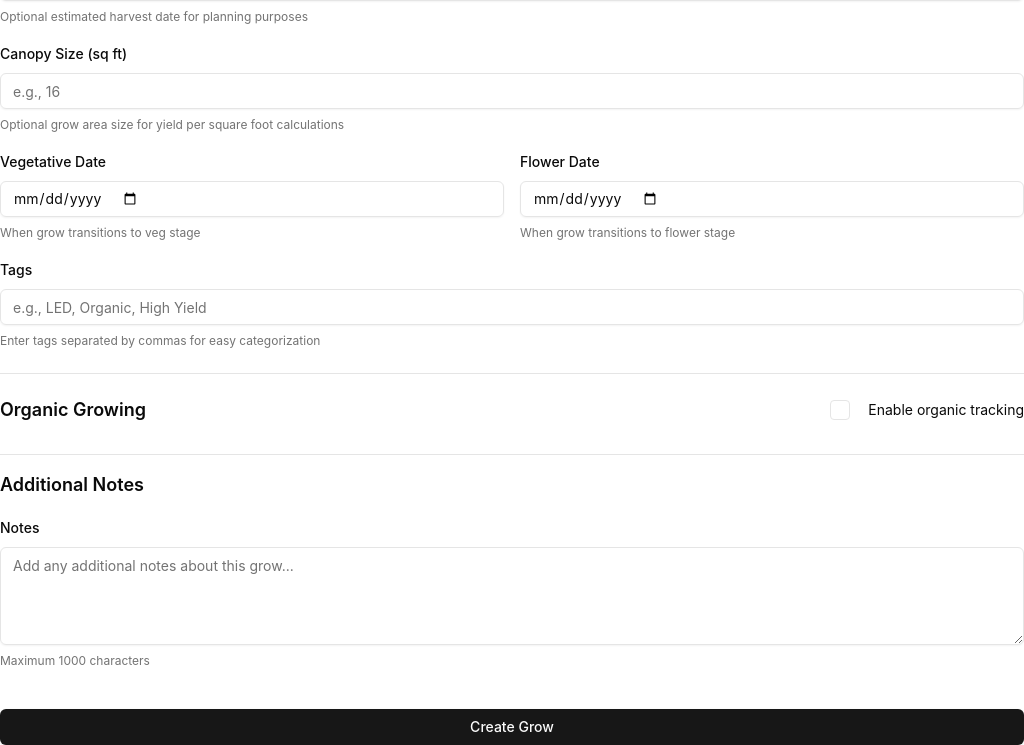
Test: GrowForm › Create Mode › shows validation error when name is empty
(page scrolled)
Click the button "Create Grow": (512, 727) [0,709,1023,744]
(page scrolled)
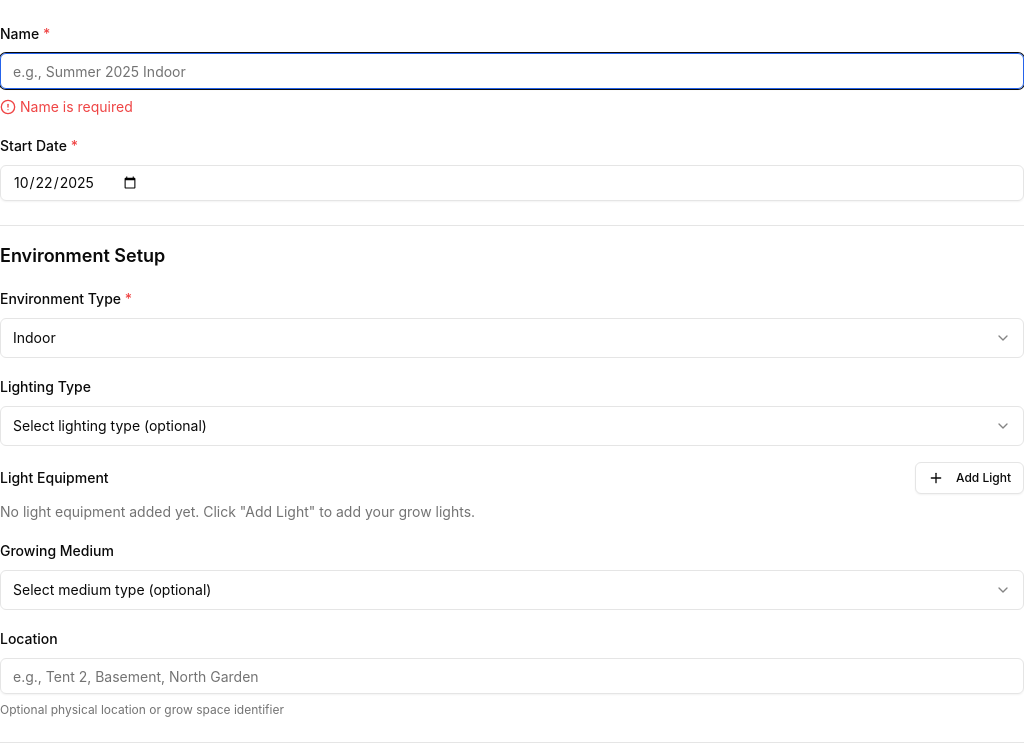
Check: the text "Name is required" is shown, box [0,98,133,115]
